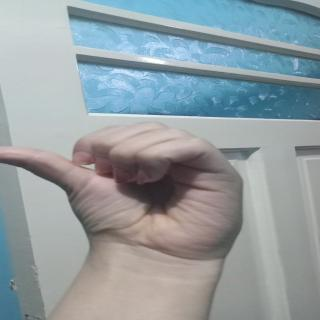WAW: (0, 119, 256, 275)
